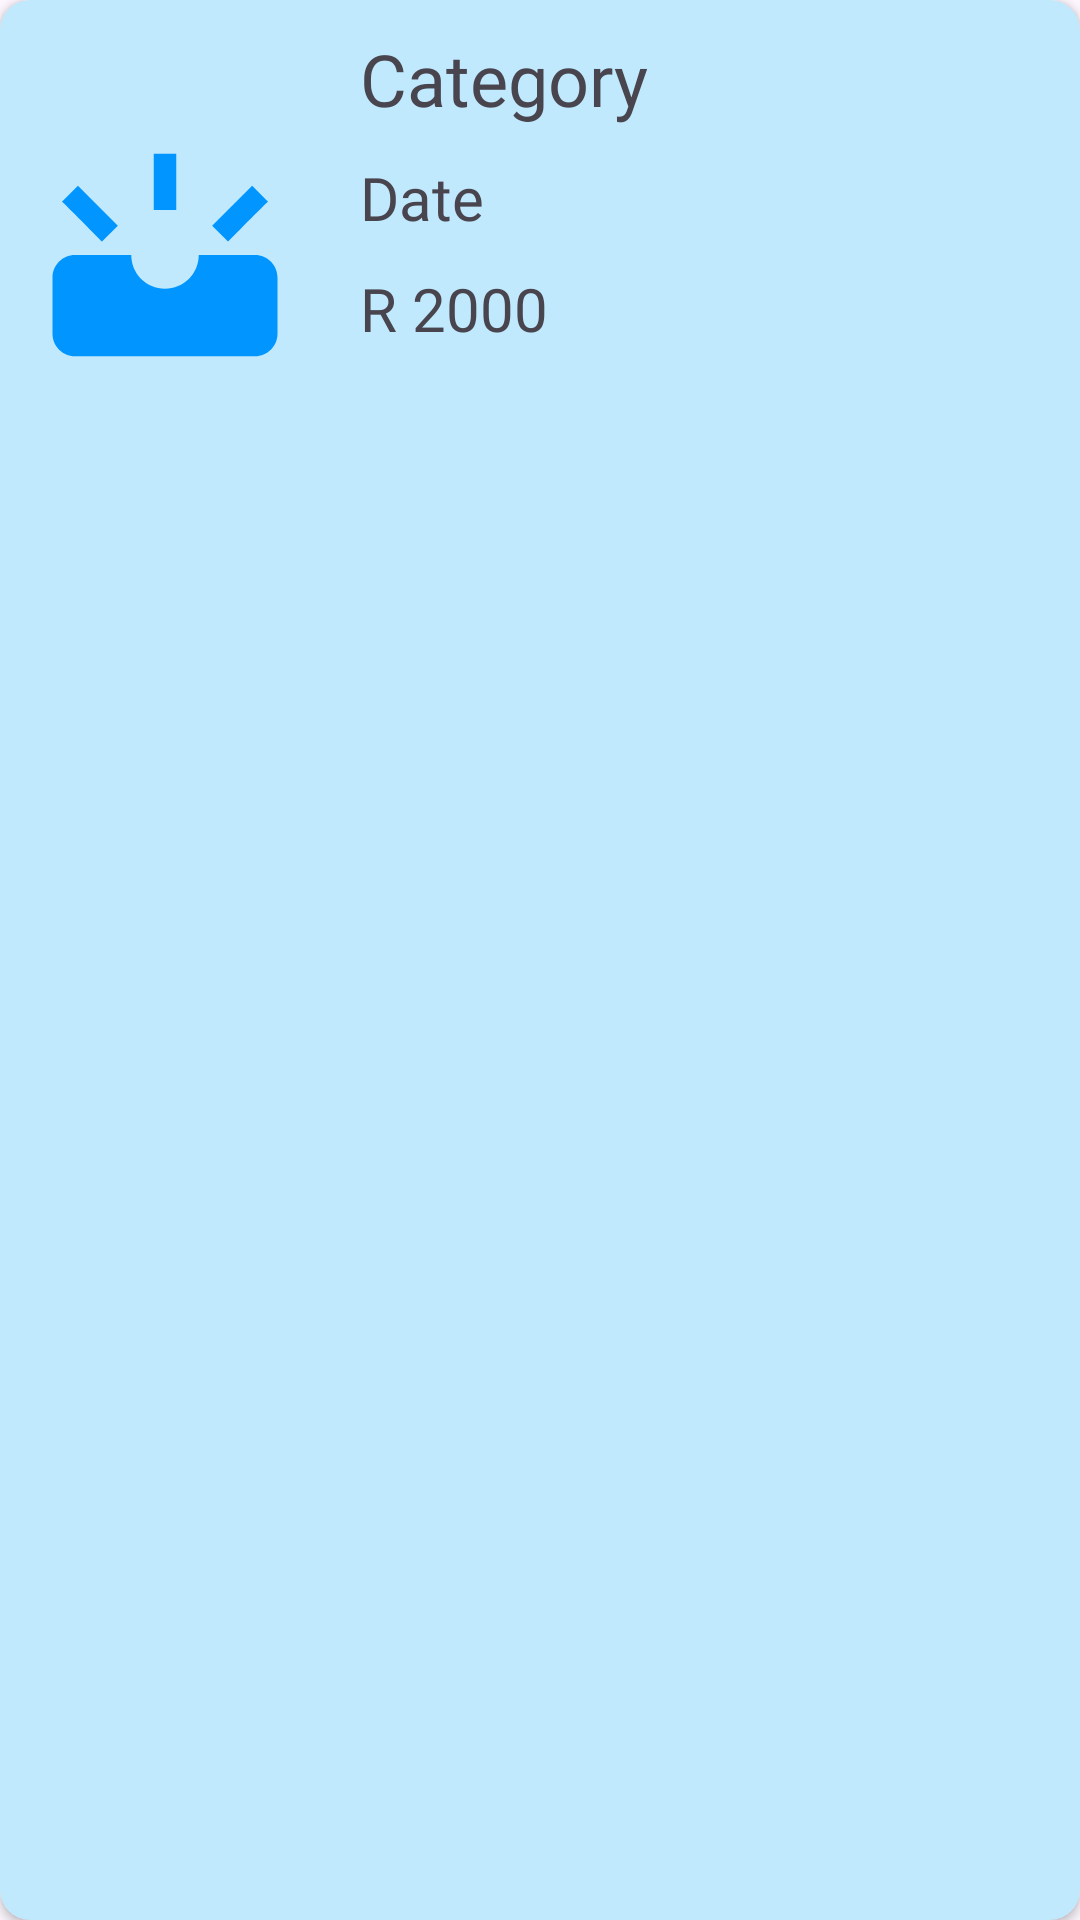

Where to tap for icons on this 1080px x 1920px app screen, as (x=x, y=y):
upcoming: (x=165, y=255)
